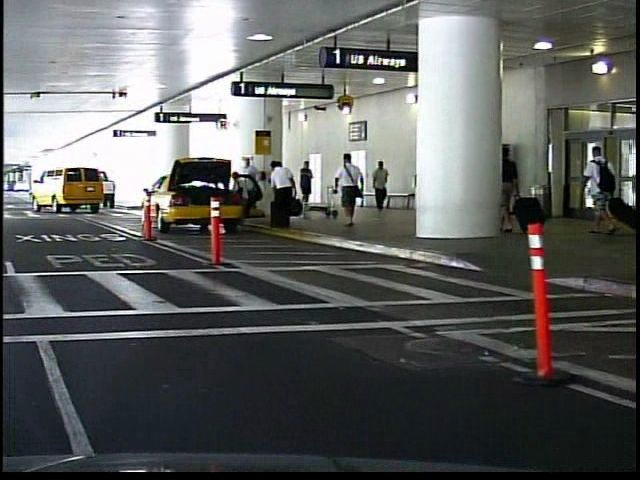person: (484, 137, 524, 236), (574, 143, 616, 237), (327, 148, 363, 230), (368, 155, 388, 215)
